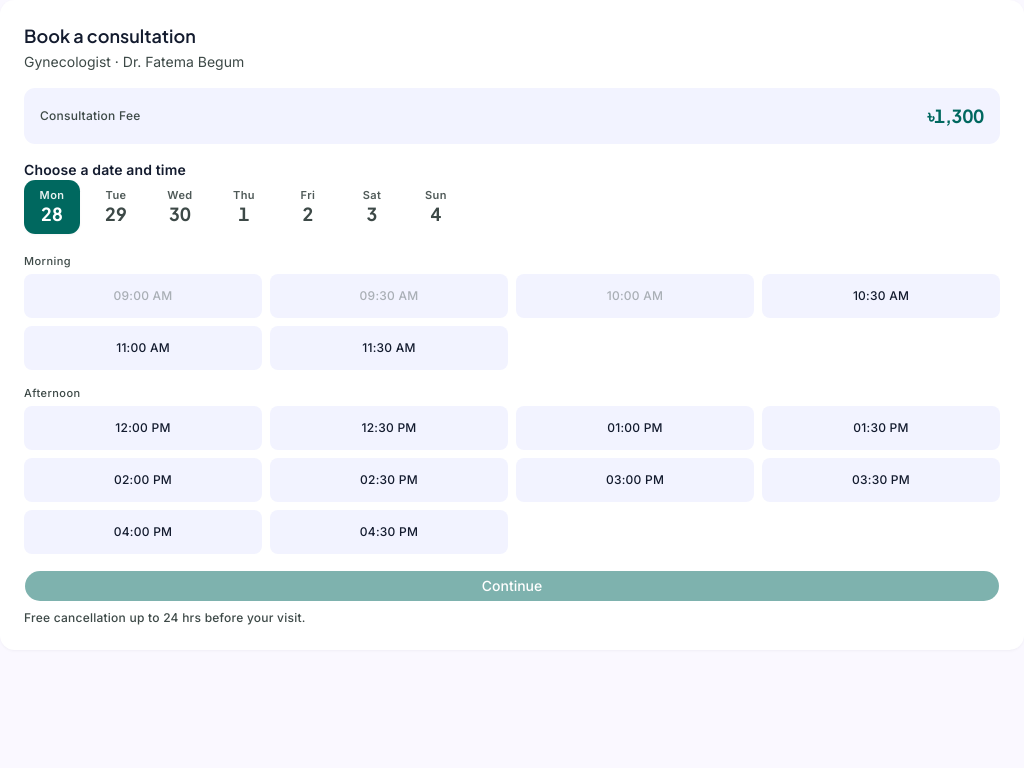
Test case: BookingFlow booking journey › swaps the picker for the form after a slot is picked
The image size is (1024, 768).
expect the radio button named "09:00 AM" next to "09:00 AM" is shown: met, box [135,288,151,304]
Click the radio button named "10:30 AM" next to "10:30 AM" at coordinates (881, 296), box [873,288,889,304]
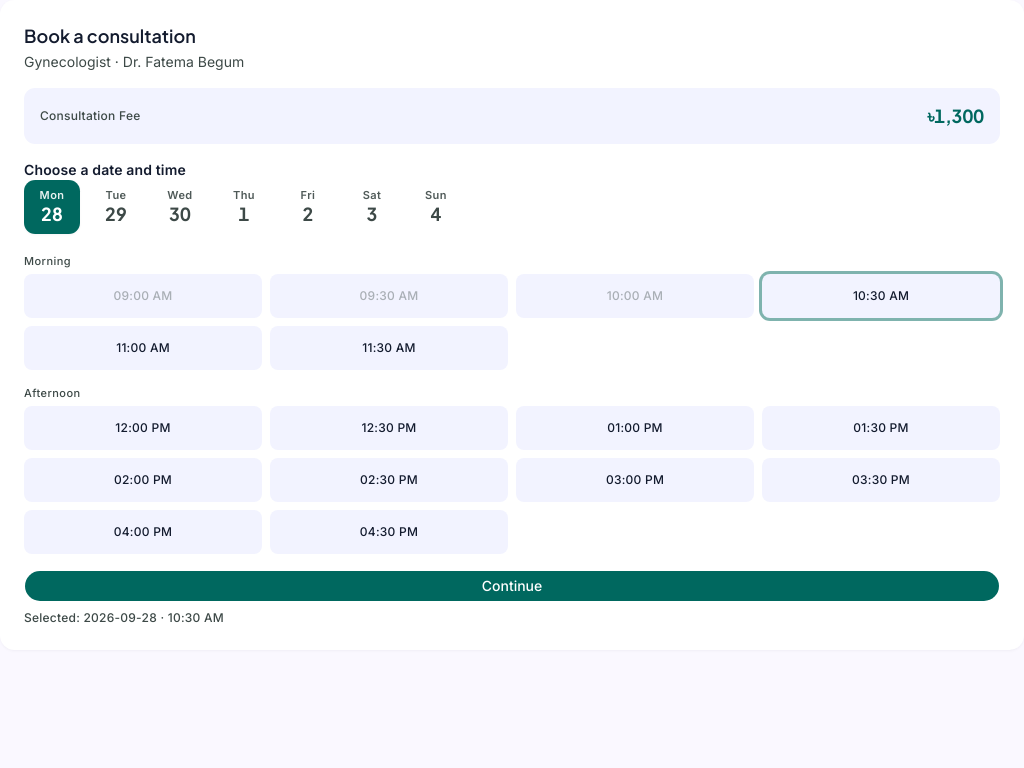
Click the button "Continue" at coordinates (512, 586), box [24,570,1000,602]
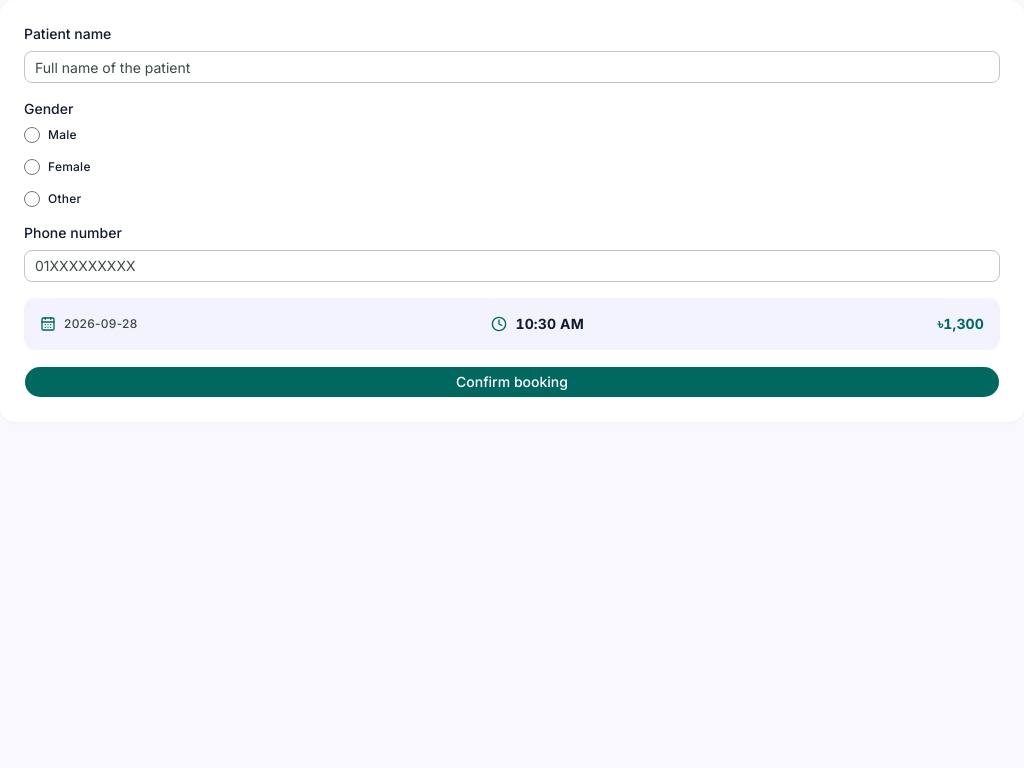
expect the field labelled "Patient name" is shown: met, box [24,51,1000,83]
